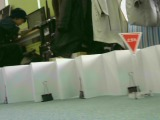stop: (118, 32, 142, 55)
